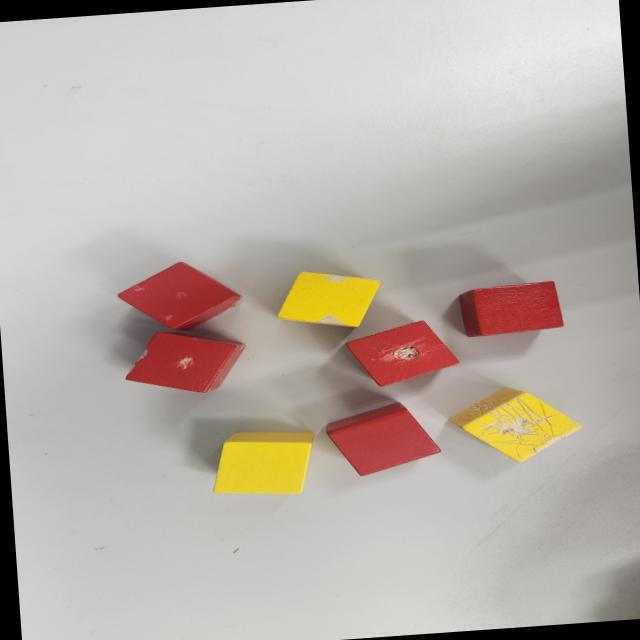broken: (445, 381, 586, 467), (114, 256, 244, 336), (323, 398, 442, 479), (123, 325, 247, 400), (344, 317, 462, 388), (272, 267, 383, 331)
red: (456, 280, 564, 336)
yellow: (207, 426, 320, 498)
